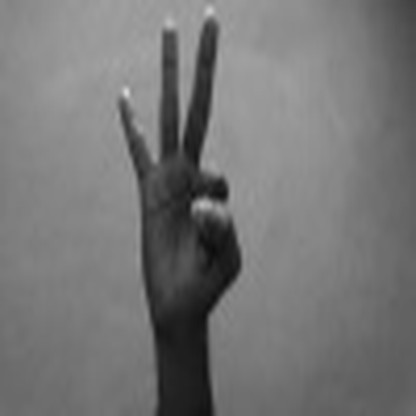f: (102, 1, 255, 327)
